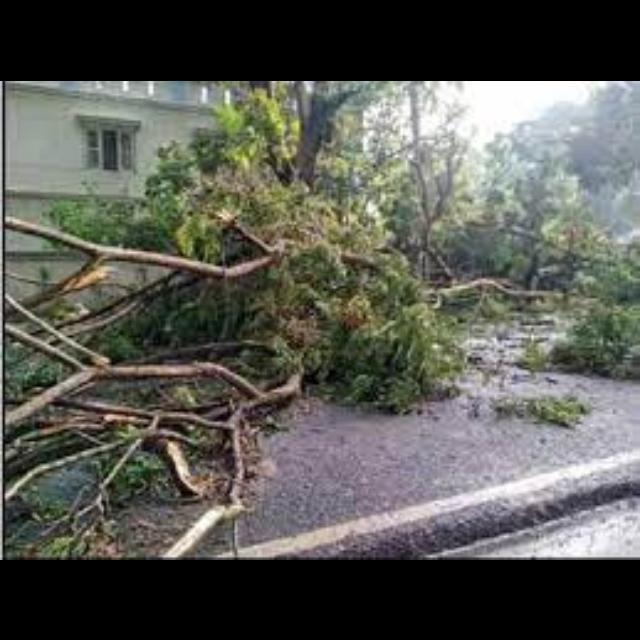fallen_tree: (7, 191, 407, 559), (430, 250, 634, 352)
